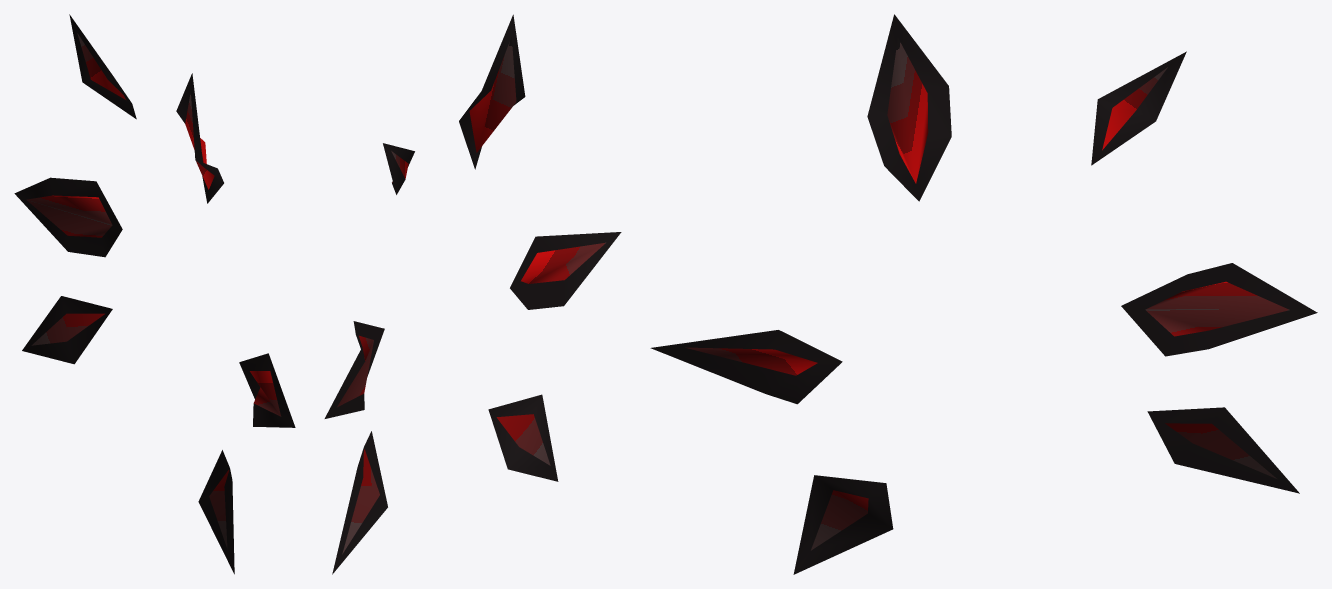
Rendered from boom4.obj.
The picture shows the model from 3 angles, left to right: view 1: azimuth 30°, elevation 25°; view 2: azimuth 150°, elevation 25°; view 3: azimuth 270°, elevation 25°; orthographic projection. The views are drawn at different scales.
Visible parts, largest first — view 1: boom4; view 2: boom4; view 3: boom4.
Part boxes in pixels (x1,y1,x2,y2): boom4: [14, 14, 295, 574]; boom4: [324, 14, 621, 574]; boom4: [650, 14, 1317, 574].
Size of the model in its own units: 5.74 by 93.25 by 101.
1 material, 1 textured.
